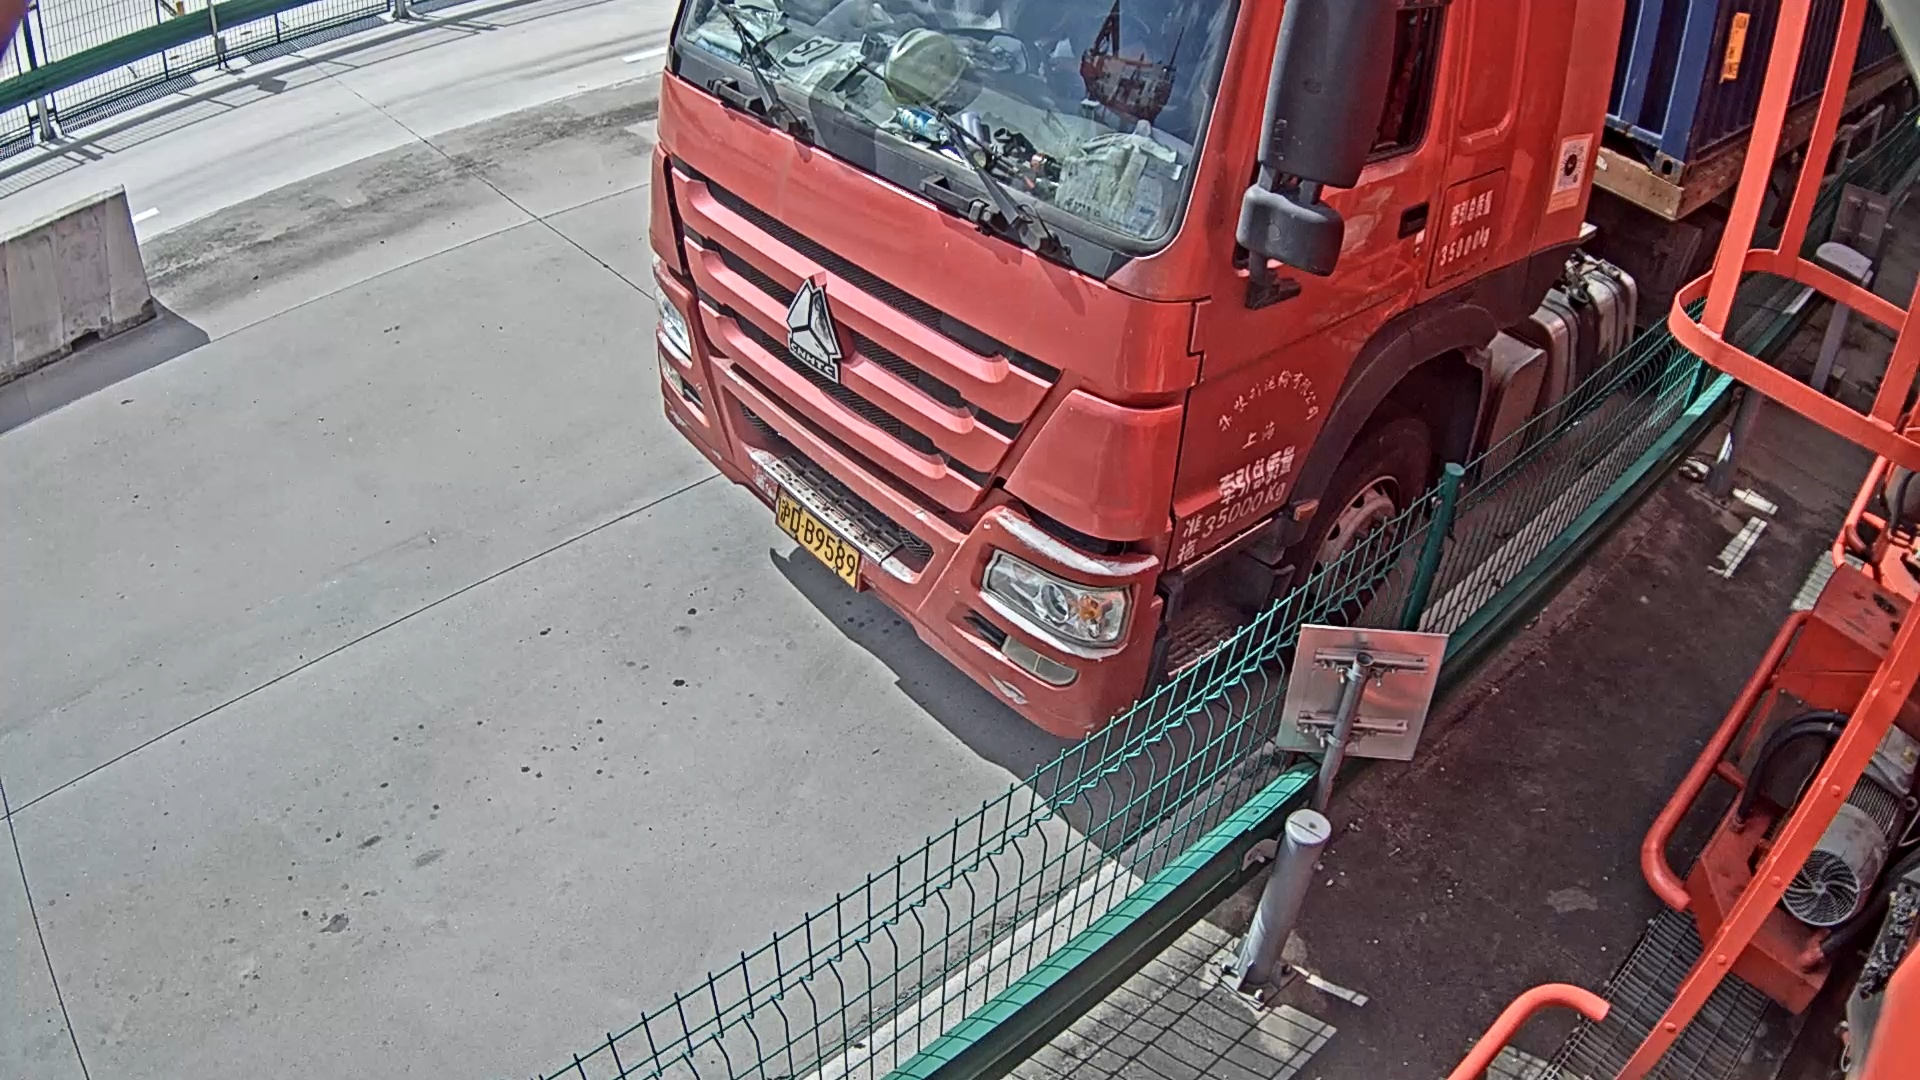head: (651, 2, 1614, 743)
plate: (773, 493, 858, 586)
